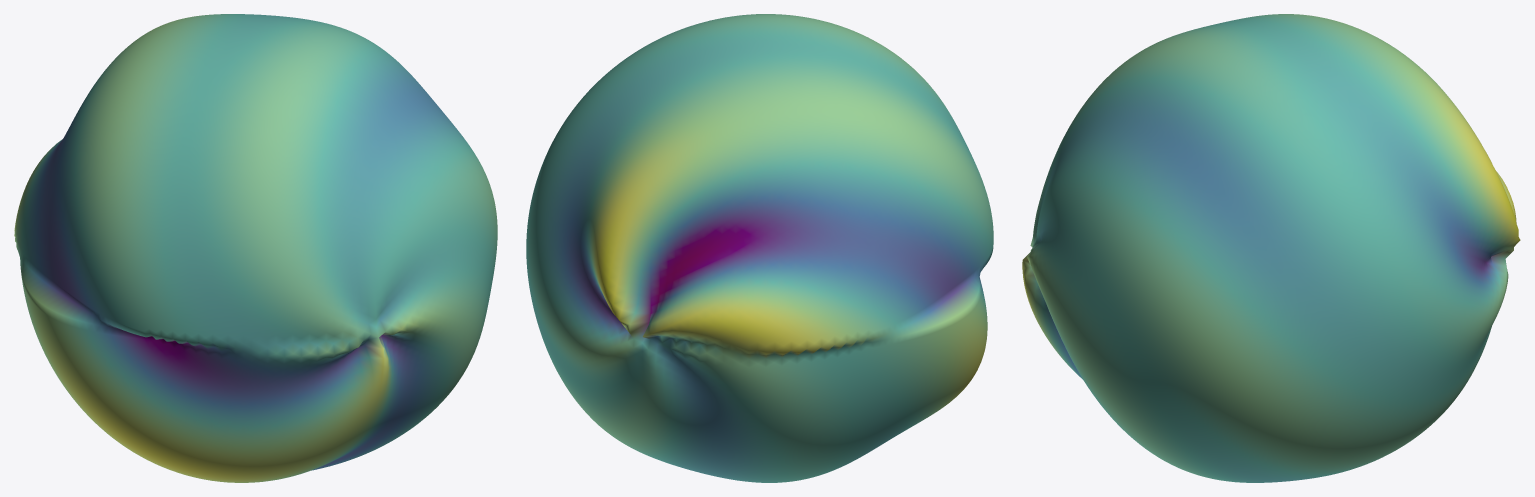
The model's file is sphere_frame_0028.glb.
3 views of the same model, side by side, from view 1: azimuth 30°, elevation 25°; view 2: azimuth 150°, elevation 25°; view 3: azimuth 270°, elevation 25° (orthographic).
Parts seen in each view (by area): view 1: world; view 2: world; view 3: world.
Boxes of the visible parts, x1,y1,x2,y2 form: world: (14,14,497,482); world: (526,14,993,482); world: (1022,14,1520,482).
Size of the model in its own units: 2.21 by 2.15 by 2.29.
